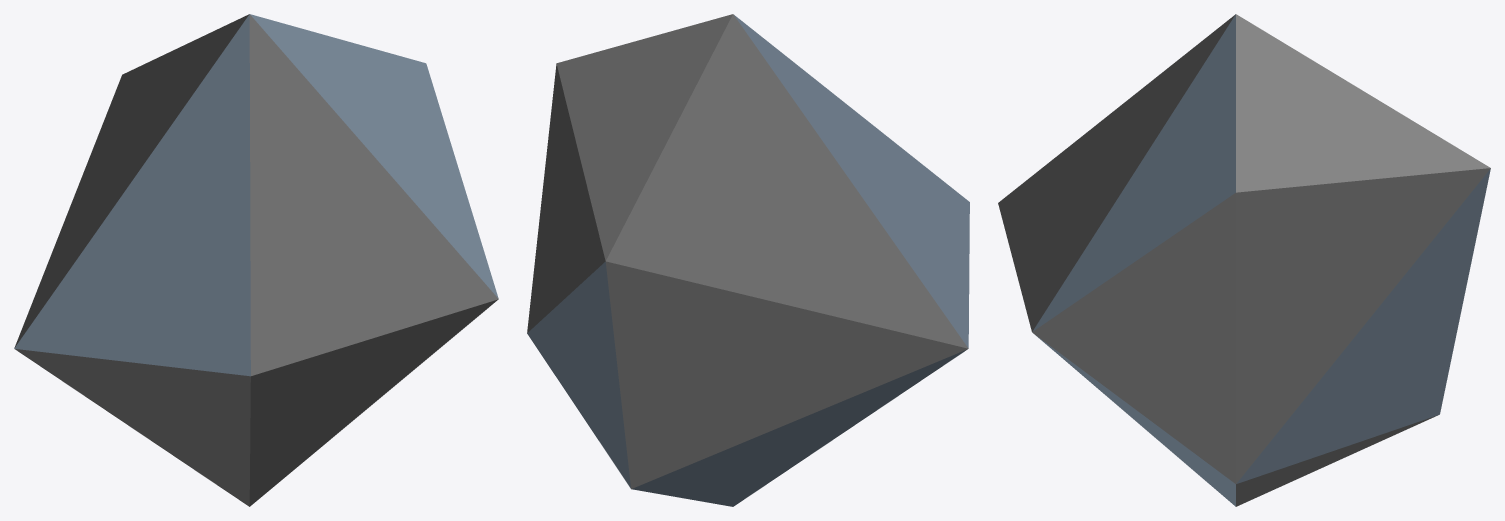
The model's file is asteroid.obj.
3 renders of one model, left to right at view 1: azimuth 30°, elevation 25°; view 2: azimuth 150°, elevation 25°; view 3: azimuth 270°, elevation 25°, orthographic.
Size of the model in its own units: 150 by 160 by 145.
